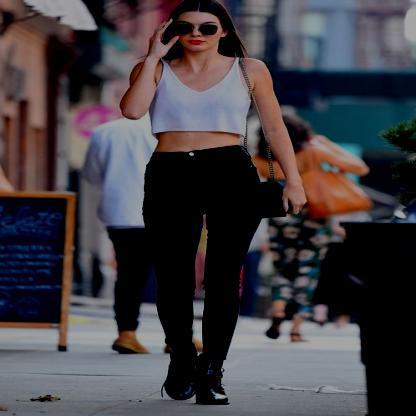jacket: (143, 52, 258, 144)
